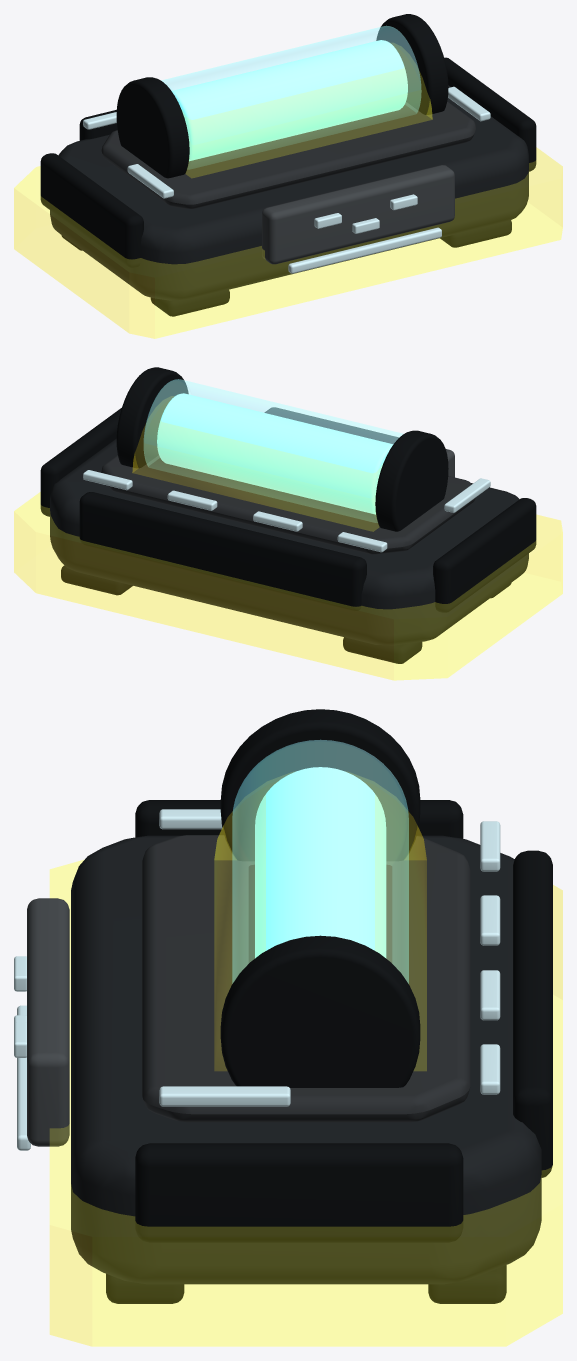
Rendered from GenericUpgradeProduct.fbx.
3 views of the same model, one above another, from view 1: azimuth 30°, elevation 25°; view 2: azimuth 150°, elevation 25°; view 3: azimuth 270°, elevation 25° (orthographic). The views are drawn at different scales.
Visible parts, largest first — view 1: LocatorMarkerProxy, ProductShell_DarkGunmetal, UpgradeCore_EmissiveColorSlot_TransparentCapsule, UpgradeCore_EmissiveColorSlot, ProductShell_DarkGunmetal_TopArmorInset, LocatorMarkerProxy_CoreSlot, IconPlate_Interchangeable, ProductShell_DarkGunmetal_LeftSideRail, UpgradeCore_EndClamp_BlackMetal_01, UpgradeCore_EndClamp_BlackMetal_02, ProductShell_DarkGunmetal_RightSideRail, IconPlate_Interchangeable_GlowUnderline (+5 smaller); view 2: LocatorMarkerProxy, ProductShell_DarkGunmetal, UpgradeCore_EmissiveColorSlot_TransparentCapsule, UpgradeCore_EmissiveColorSlot, ProductShell_DarkGunmetal_RearCap, LocatorMarkerProxy_CoreSlot, ProductShell_DarkGunmetal_TopArmorInset, ProductShell_DarkGunmetal_LeftSideRail, UpgradeCore_EndClamp_BlackMetal_01, UpgradeCore_EndClamp_BlackMetal_02, ProductShell_DarkGunmetal_RightSideRail, IconPlate_Interchangeable (+7 smaller); view 3: ProductShell_DarkGunmetal, LocatorMarkerProxy, ProductShell_DarkGunmetal_TopArmorInset, UpgradeCore_EmissiveColorSlot_TransparentCapsule, ProductShell_DarkGunmetal_RightSideRail, UpgradeCore_EndClamp_BlackMetal_02, UpgradeCore_EmissiveColorSlot, LocatorMarkerProxy_CoreSlot, UpgradeCore_EndClamp_BlackMetal_01, ProductShell_DarkGunmetal_RearCap, IconPlate_Interchangeable, ProductShell_DarkGunmetal_LeftSideRail (+9 smaller).
Part boxes in pixels (x1,y1,x2,y2): LocatorMarkerProxy: [14, 147, 562, 338]; ProductShell_DarkGunmetal: [50, 85, 528, 300]; UpgradeCore_EmissiveColorSlot_TransparentCapsule: [161, 26, 421, 168]; UpgradeCore_EmissiveColorSlot: [171, 40, 407, 161]; ProductShell_DarkGunmetal_TopArmorInset: [101, 101, 475, 208]; LocatorMarkerProxy_CoreSlot: [183, 46, 432, 177]; IconPlate_Interchangeable: [262, 165, 454, 264]; ProductShell_DarkGunmetal_LeftSideRail: [40, 153, 143, 268]; UpgradeCore_EndClamp_BlackMetal_01: [116, 77, 189, 178]; UpgradeCore_EndClamp_BlackMetal_02: [376, 14, 448, 114]; ProductShell_DarkGunmetal_RightSideRail: [444, 57, 536, 171]; IconPlate_Interchangeable_GlowUnderline: [288, 227, 441, 273]; LocatorMarkerProxy: [14, 492, 562, 680]; ProductShell_DarkGunmetal: [50, 438, 528, 645]; UpgradeCore_EmissiveColorSlot_TransparentCapsule: [144, 379, 402, 522]; UpgradeCore_EmissiveColorSlot: [157, 393, 393, 514]; ProductShell_DarkGunmetal_RearCap: [79, 492, 366, 611]; LocatorMarkerProxy_CoreSlot: [132, 399, 381, 531]; ProductShell_DarkGunmetal_TopArmorInset: [101, 455, 475, 554]; ProductShell_DarkGunmetal_LeftSideRail: [433, 498, 536, 612]; UpgradeCore_EndClamp_BlackMetal_01: [375, 430, 448, 531]; UpgradeCore_EndClamp_BlackMetal_02: [116, 367, 188, 468]; ProductShell_DarkGunmetal_RightSideRail: [40, 408, 121, 516]; IconPlate_Interchangeable: [264, 407, 454, 477]; ProductShell_DarkGunmetal: [71, 835, 541, 1284]; LocatorMarkerProxy: [50, 860, 562, 1346]; ProductShell_DarkGunmetal_TopArmorInset: [142, 835, 470, 1122]; UpgradeCore_EmissiveColorSlot_TransparentCapsule: [232, 740, 408, 983]; ProductShell_DarkGunmetal_RightSideRail: [135, 1143, 463, 1242]; UpgradeCore_EndClamp_BlackMetal_02: [220, 935, 420, 1087]; UpgradeCore_EmissiveColorSlot: [255, 767, 386, 958]; LocatorMarkerProxy_CoreSlot: [214, 781, 426, 1070]; UpgradeCore_EndClamp_BlackMetal_01: [220, 709, 420, 860]; ProductShell_DarkGunmetal_RearCap: [513, 850, 552, 1177]; IconPlate_Interchangeable: [27, 898, 69, 1146]; ProductShell_DarkGunmetal_LeftSideRail: [135, 800, 463, 838].
Bounding box in the file's own units: 0.63 × 0.254 × 0.385.
